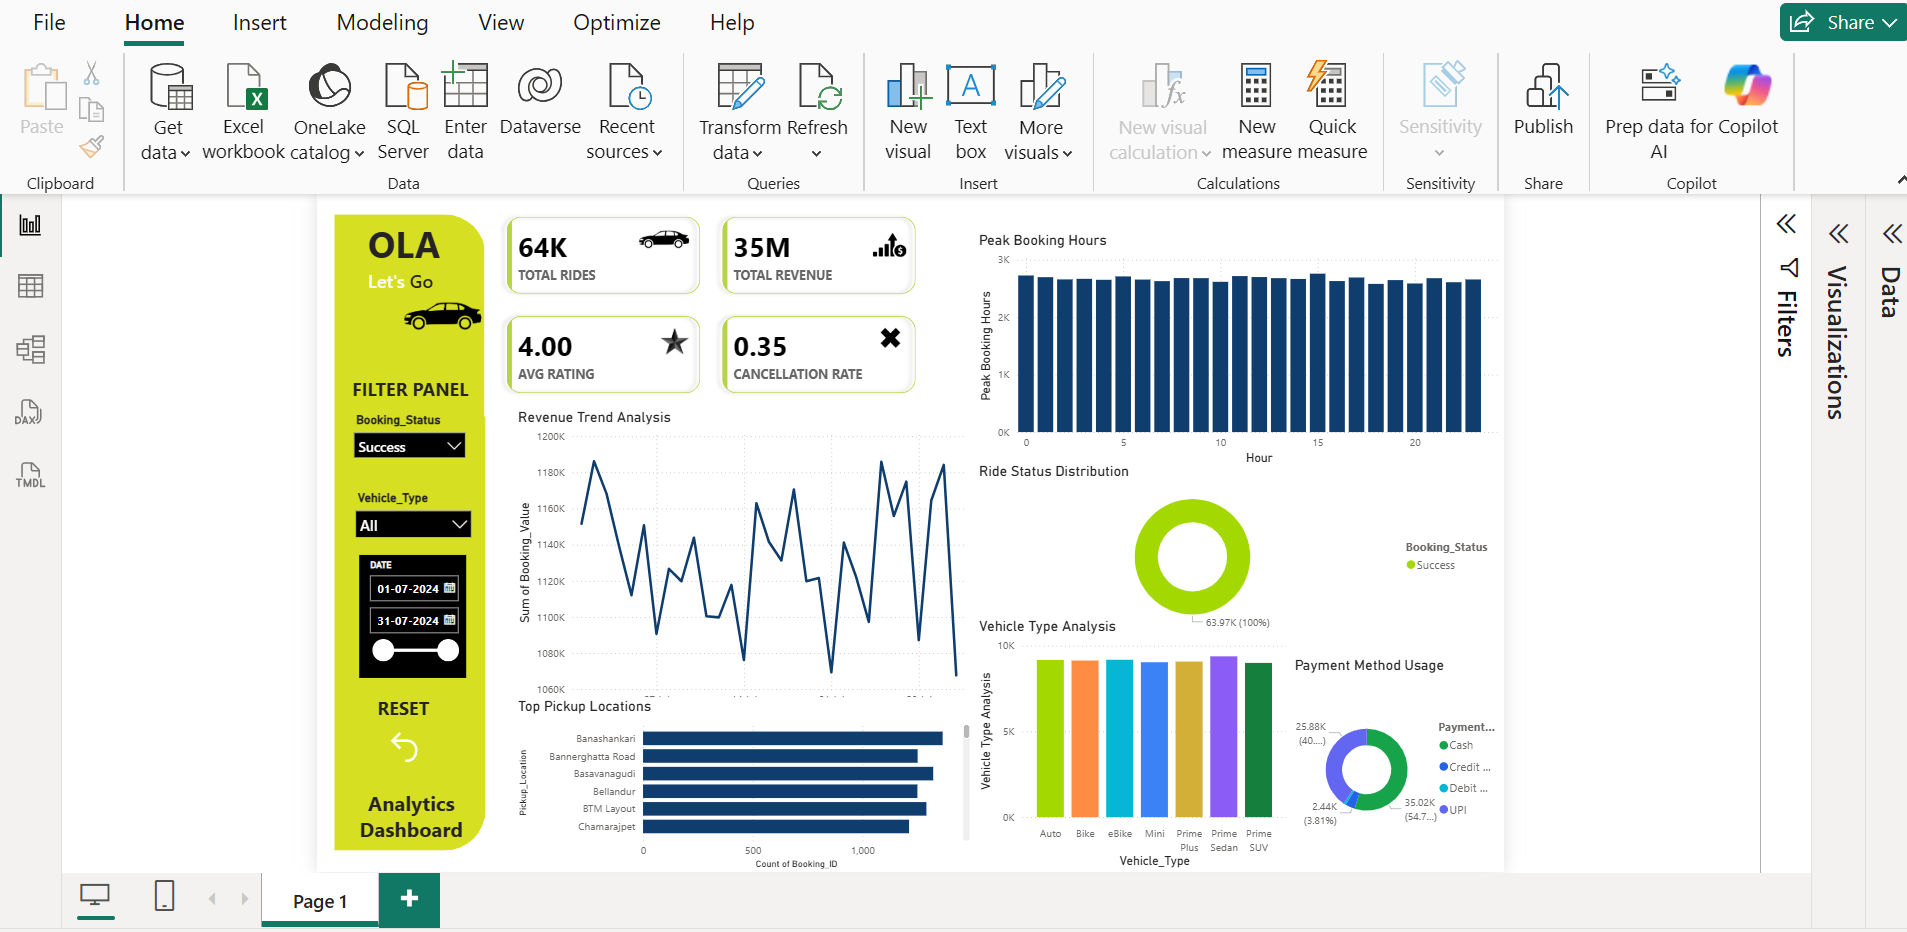

What the dashboard file says about the page in this screenshot:
{"tool":"powerbi","page":{"name":"Page 1","canvas":[1400,800],"ordinal":0},"visuals":[{"type":"shape","box":[20.1,24.6,178.7,750.4],"z":0},{"type":"textbox","box":[0,24.6,205.5,73.7],"z":1000},{"type":"textbox","box":[55.8,82.6,109.4,60.3],"z":2000},{"type":"cardVisual","fields":{"Data":["Table1.Total Rides","Table1.Total Revenue","Table1.Avg Customer Rating","Table1.Cancellation Rate"]},"box":[197.5,0,537.5,262.5],"z":3000},{"type":"clusteredColumnChart","title":"Peak Booking Hours ","fields":{"Category":["Table1.Hour"],"Y":["CountNonNull(Table1.Booking_ID)"]},"box":[775,45,625,280],"z":4000},{"type":"donutChart","title":"Ride Status Distribution ","fields":{"Y":["CountNonNull(Table1.Booking_ID)"],"Category":["Table1.Booking_Status"]},"box":[775,317.5,625,202.5],"z":5000},{"type":"lineChart","title":"Revenue Trend Analysis","fields":{"Y":["Sum(Table1.Booking_Value)"],"Category":["Table1.Date.Variation.Date Hierarchy.Year","Table1.Date.Variation.Date Hierarchy.Quarter","Table1.Date.Variation.Date Hierarchy.Month","Table1.Date.Variation.Date Hierarchy.Day"]},"box":[232.5,252.5,542.5,375],"z":6000},{"type":"slicer","fields":{"Values":["Table1.Date"]},"box":[50,426,126,144],"z":7000},{"type":"slicer","fields":{"Values":["Table1.Vehicle_Type"]},"box":[35,345,157.5,75],"z":8000},{"type":"slicer","fields":{"Values":["Table1.Booking_Status"]},"box":[34,252,152,72],"z":9000},{"type":"textbox","box":[20,696,182,80],"z":10000},{"type":"image","box":[100,96,98,94],"z":11000},{"type":"actionButton","title":"Reser","box":[80,628,62,48],"z":12000},{"type":"textbox","box":[22,210,176,42],"z":13000},{"type":"barChart","title":"Top Pickup Locations","fields":{"Category":["Table1.Pickup_Location"],"Y":["CountNonNull(Table1.Booking_ID)"]},"box":[232.5,592.5,542.5,207.5],"z":14000},{"type":"columnChart","title":"Vehicle Type Analysis","fields":{"Category":["Table1.Vehicle_Type"],"Y":["CountNonNull(Table1.Booking_ID)"]},"box":[775,500,372.5,300],"z":15000},{"type":"donutChart","title":"Payment Method Usage","fields":{"Category":["Table1.Payment_Method"],"Y":["CountNonNull(Table1.Booking_ID)"]},"box":[1147.5,545,252.5,247.5],"z":16000},{"type":"textbox","box":[66,586,72,42],"z":17000}]}

Visuals, with their boxes on the page's 1400x800 design canvas (x1, y1, x2, y2). These are canvas units, not pixel positions in the 1907x932 screenshot, which may show the page scaled, cropped or inside an application window:
shape: pyautogui.locateOnScreen(20, 25, 199, 775)
textbox: pyautogui.locateOnScreen(0, 25, 206, 98)
textbox: pyautogui.locateOnScreen(56, 83, 165, 143)
cardVisual - Table1.Total Rides x Table1.Total Revenue: pyautogui.locateOnScreen(198, 0, 735, 262)
"Peak Booking Hours " clusteredColumnChart: pyautogui.locateOnScreen(775, 45, 1400, 325)
"Ride Status Distribution " donutChart: pyautogui.locateOnScreen(775, 318, 1400, 520)
"Revenue Trend Analysis" lineChart: pyautogui.locateOnScreen(232, 252, 775, 628)
slicer - Table1.Date: pyautogui.locateOnScreen(50, 426, 176, 570)
slicer - Table1.Vehicle_Type: pyautogui.locateOnScreen(35, 345, 192, 420)
slicer - Table1.Booking_Status: pyautogui.locateOnScreen(34, 252, 186, 324)
textbox: pyautogui.locateOnScreen(20, 696, 202, 776)
image: pyautogui.locateOnScreen(100, 96, 198, 190)
"Reser" actionButton: pyautogui.locateOnScreen(80, 628, 142, 676)
textbox: pyautogui.locateOnScreen(22, 210, 198, 252)
"Top Pickup Locations" barChart: pyautogui.locateOnScreen(232, 592, 775, 800)
"Vehicle Type Analysis" columnChart: pyautogui.locateOnScreen(775, 500, 1148, 800)
"Payment Method Usage" donutChart: pyautogui.locateOnScreen(1148, 545, 1400, 792)
textbox: pyautogui.locateOnScreen(66, 586, 138, 628)
